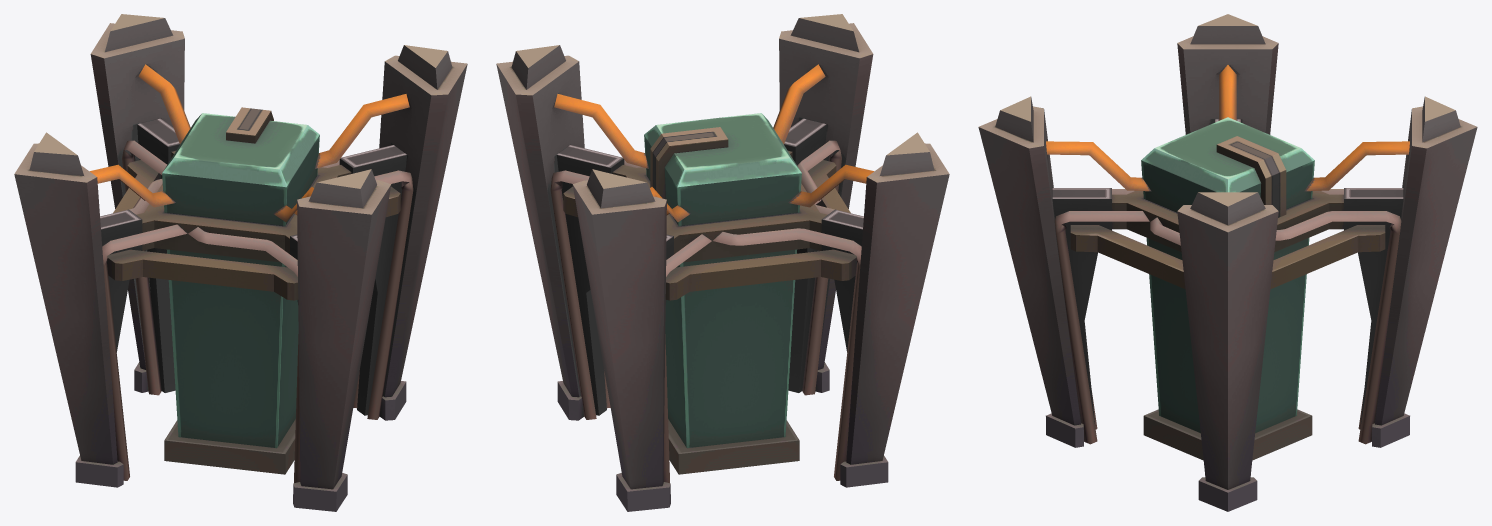
File: S_survive_Xiexie.fbx
3 renders of one model, left to right at view 1: azimuth 30°, elevation 25°; view 2: azimuth 150°, elevation 25°; view 3: azimuth 270°, elevation 25°, orthographic. The views are drawn at different scales.
Visible parts, largest first — view 1: S_survive_Xiexie; view 2: S_survive_Xiexie; view 3: S_survive_Xiexie.
Boxes of the visible parts, x1=… form: S_survive_Xiexie: x1=14, y1=14, x2=467, y2=511; S_survive_Xiexie: x1=496, y1=14, x2=949, y2=511; S_survive_Xiexie: x1=978, y1=14, x2=1477, y2=511.
Bounding box in the file's own units: 1.09 × 0.7862 × 1.09.
1 material, 1 textured.
